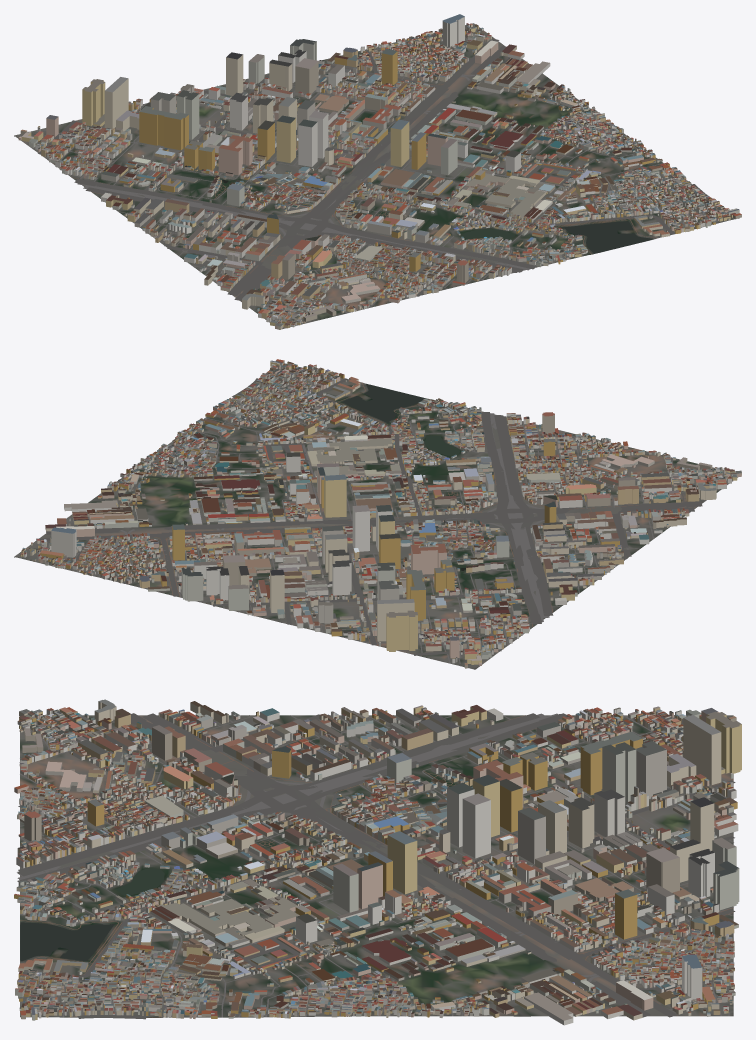
3 views of the same model, one above another, from view 1: azimuth 30°, elevation 25°; view 2: azimuth 150°, elevation 25°; view 3: azimuth 270°, elevation 25° (orthographic). The views are drawn at different scales.
Parts seen in each view (by area): view 1: buildings, ground, roads, water; view 2: buildings, ground, roads, water; view 3: buildings, ground, roads, water.
Boxes of the visible parts, box(x1,y1,x2,y2) form: buildings: box(18, 14, 741, 329); ground: box(14, 23, 739, 329); roads: box(28, 24, 720, 328); water: box(222, 180, 653, 253); buildings: box(20, 359, 741, 668); ground: box(14, 363, 737, 669); roads: box(16, 372, 732, 666); water: box(342, 383, 465, 570); buildings: box(14, 699, 741, 1025); ground: box(20, 715, 733, 1017); roads: box(17, 713, 735, 1019); water: box(20, 868, 164, 961).
Size of the model in its own units: 1473 by 121 by 1430.
